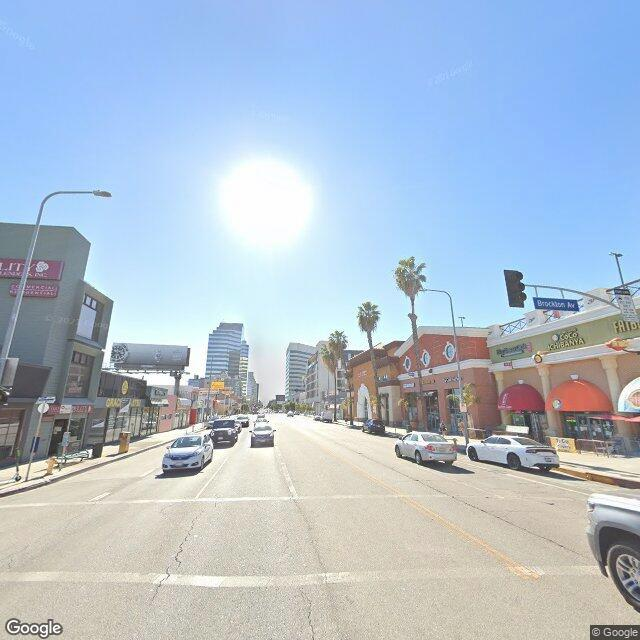pothole: (147, 503, 207, 605), (295, 583, 322, 638)
